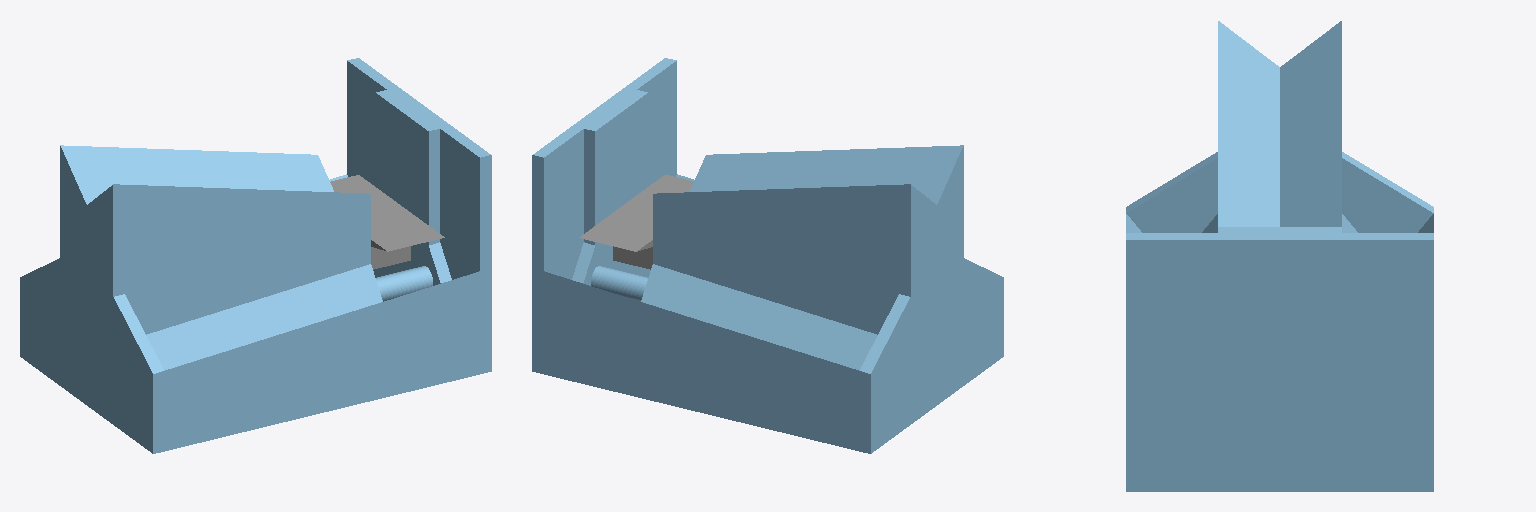
URDF robot description (onshape):
<robot name="onshape">
    <link name="base_link"></link>
    <joint name="base_link_to_base" type="fixed">
        <parent link="base_link" />
        <child link="part_1" />
        <origin rpy="0.0 0 0" xyz="0 0 0" />
    </joint>
    <link name="part_1">
        <visual>
            <origin xyz="-7.34808 -1 0" rpy="-1.5708 -0 0" />
            <geometry>
                <mesh filename="package://ball_sorter_robot/urdf/part_1.stl" />
            </geometry>
            <material name="part_1_material">
                <color rgba="0.615686 0.811765 0.929412 1.0" />
            </material>
        </visual>
        <collision>
            <origin xyz="-7.34808 -1 0" rpy="-1.5708 -0 0" />
            <geometry>
                <mesh filename="package://ball_sorter_robot/urdf/part_1.stl" />
            </geometry>
            <material name="part_1_material">
                <color rgba="0.615686 0.811765 0.929412 1.0" />
            </material>
        </collision>
        <inertial>
            <origin xyz="-3.94217 0 1.54332" rpy="0 0 0" />
            <mass value="628877" />
            <inertia ixx="1.8208e+06" ixy="-6.78994e-11" ixz="-71998" iyy="3.77204e+06" iyz="-3.90347e-11" izz="3.91203e+06" />
        </inertial>
    </link>

    <link name="part_2">
        <visual>
            <origin xyz="-1 2.1609 5.59808" rpy="-0 1.5708 0" />
            <geometry>
                <mesh filename="package://ball_sorter_robot/urdf/part_2.stl" />
            </geometry>
            <material name="part_2_material">
                <color rgba="0.647059 0.647059 0.647059 1.0" />
            </material>
        </visual>
        <collision>
            <origin xyz="-1 2.1609 5.59808" rpy="-0 1.5708 0" />
            <geometry>
                <mesh filename="package://ball_sorter_robot/urdf/part_2.stl" />
            </geometry>
            <material name="part_2_material">
                <color rgba="0.647059 0.647059 0.647059 1.0" />
            </material>
        </collision>
        <inertial>
            <origin xyz="-0.0283448 -0.03378 -0.625" rpy="0 0 0" />
            <mass value="8317.64" />
            <inertia ixx="2771.24" ixy="-943.854" ixz="1.10226e-13" iyy="3104.09" iyz="4.31383e-13" izz="3709.28" />
        </inertial>
    </link>

    <joint name="tilt" type="revolute">
        <origin xyz="-1.75 -4.44089e-16 2.1609" rpy="-1.5708 0.7 1.5708" />
        <parent link="part_1" />
        <child link="part_2" />
        <axis xyz="0 0 1" />
        <limit effort="10000" velocity="20" lower="-0.6" upper="0.6" />
        <joint_properties friction="0.0" />
    </joint>

    <gazebo>
        <plugin name="gazebo_ros_control" filename="libgazebo_ros_control.so">
            <robotSimType>gazebo_ros_control/DefaultRobotHWSim</robotSimType>
            <robotNamespace>/ball_sorter</robotNamespace>
        </plugin>
    </gazebo>

    <transmission name="tran1">
        <type>transmission_interface/SimpleTransmission</type>
        <joint name="tilt">
            <hardwareInterface>hardware_interface/EffortJointInterface</hardwareInterface>
        </joint>
        <actuator name="motor1">
            <hardwareInterface>hardware_interface/EffortJointInterface</hardwareInterface>
            <mechanicalReduction>1</mechanicalReduction>
        </actuator>
    </transmission>

    <joint name="camera_rgb_joint" type="fixed">
        <origin xyz="-5 0 6" rpy="0 1.58 0" />
        <parent link="base_link" />
        <child link="camera_rgb_frame" />
    </joint>
    <link name="camera_rgb_frame" />

    <gazebo reference="camera_rgb_frame">
        <sensor type="camera" name="Pi Camera">
            <always_on>true</always_on>
            <visualize>false</visualize>
            <camera>
                <horizontal_fov>1.085595</horizontal_fov>
                <image>
                    <width>640</width>
                    <height>480</height>
                    <format>R8G8B8</format>
                </image>
                <clip>
                    <near>0.03</near>
                    <far>100</far>
                </clip>
            </camera>
            <plugin name="camera_controller" filename="libgazebo_ros_camera.so">
                <alwaysOn>true</alwaysOn>
                <updateRate>30.0</updateRate>
                <cameraName>camera</cameraName>
                <frameName>camera_rgb_optical_frame</frameName>
                <imageTopicName>rgb/image_raw</imageTopicName>
                <cameraInfoTopicName>rgb/camera_info</cameraInfoTopicName>
                <hackBaseline>0.07</hackBaseline>
                <distortionK1>0.0</distortionK1>
                <distortionK2>0.0</distortionK2>
                <distortionK3>0.0</distortionK3>
                <distortionT1>0.0</distortionT1>
                <distortionT2>0.0</distortionT2>
            </plugin>
        </sensor>
    </gazebo>

</robot>

--- Render facts (derived) ---
3 views of the same robot in one strip: view 1: azimuth 30°, elevation 25°; view 2: azimuth 150°, elevation 25°; view 3: azimuth 270°, elevation 25° (orthographic).
Robot: onshape — 4 links, 3 joints (1 revolute, 2 fixed); root link base_link; default pose: every joint at zero.
Visible links, largest first — view 1: part_1, part_2; view 2: part_1, part_2; view 3: part_1.
Link boxes in pixels (box(x1,y1,x2,y2)): part_1: box(20, 58, 491, 453); part_2: box(330, 175, 444, 269); part_1: box(532, 58, 1003, 453); part_2: box(579, 175, 693, 269); part_1: box(1126, 21, 1433, 491).
Bounding box of the posed robot: 7.35 × 5 × 5 m (x, y, z).
Meshes: 2 distinct files referenced, 2 mesh visuals loaded (2 binary STL).